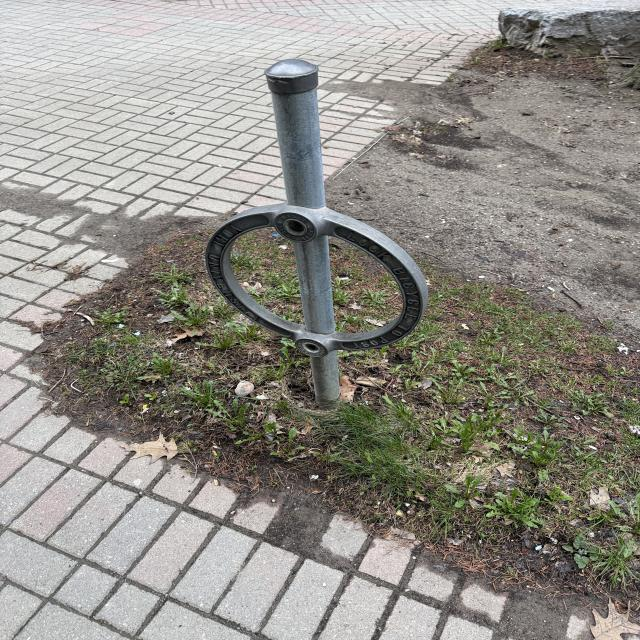Bicycle Rack: (210, 59, 430, 415)
